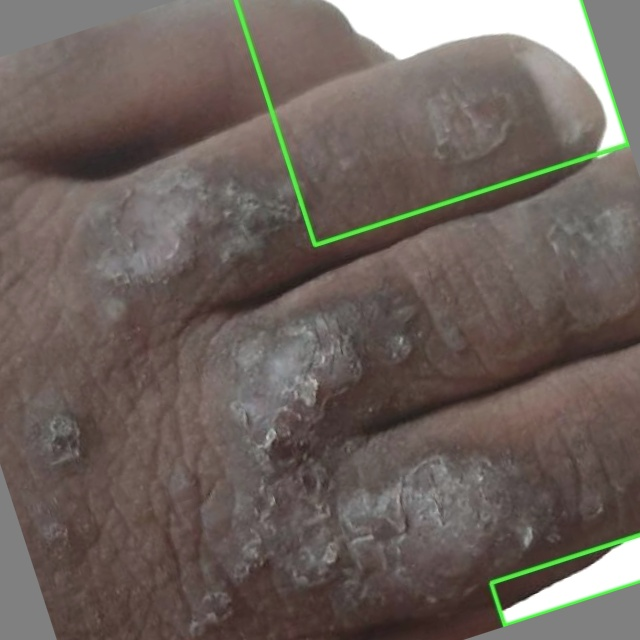Contact Dermatitis: (235, 0, 628, 245)
